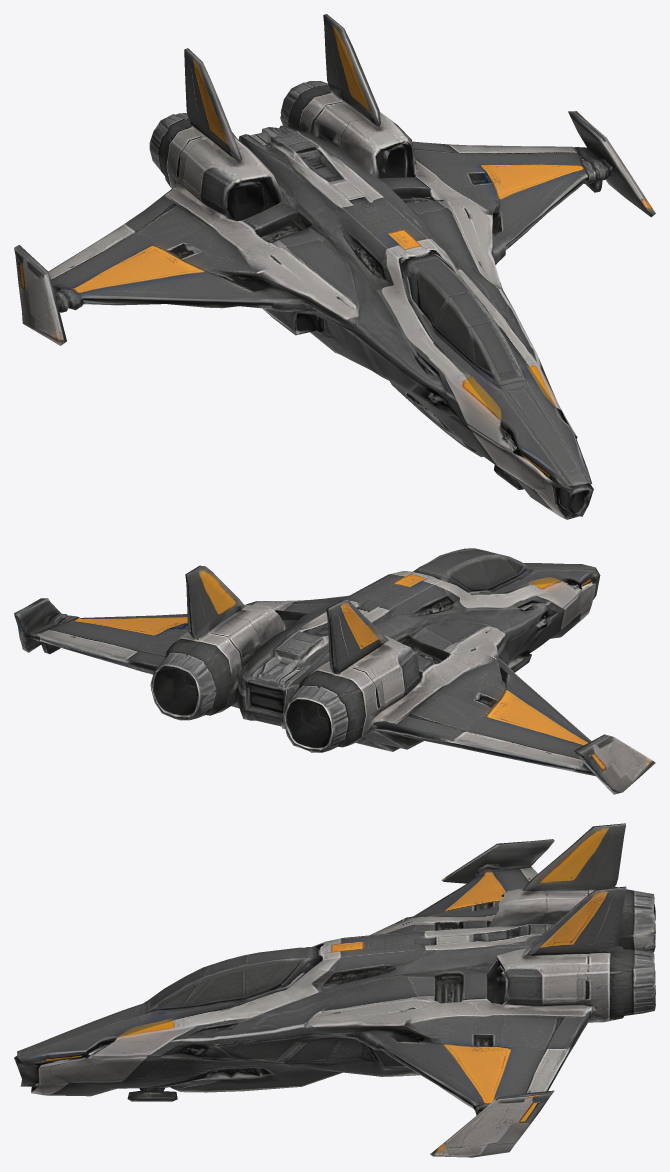
The model's file is interceptor-high.glb.
The picture shows the model from 3 angles, top to bottom: view 1: azimuth 30°, elevation 25°; view 2: azimuth 150°, elevation 25°; view 3: azimuth 270°, elevation 25°; orthographic projection. The views are drawn at different scales.
Parts seen in each view (by area): view 1: tripo_node_d2a55f69-6e5b-45b3-b958-edc3c265ea1b; view 2: tripo_node_d2a55f69-6e5b-45b3-b958-edc3c265ea1b; view 3: tripo_node_d2a55f69-6e5b-45b3-b958-edc3c265ea1b.
Boxes of the visible parts, left/top/right/bottom form: tripo_node_d2a55f69-6e5b-45b3-b958-edc3c265ea1b: left=14, top=14, right=655, bottom=519; tripo_node_d2a55f69-6e5b-45b3-b958-edc3c265ea1b: left=14, top=548, right=655, bottom=794; tripo_node_d2a55f69-6e5b-45b3-b958-edc3c265ea1b: left=14, top=823, right=655, bottom=1157.
Bounding box in the file's own units: 1.71 × 0.725 × 1.72.
Materials: 1 (1 with a texture image).
